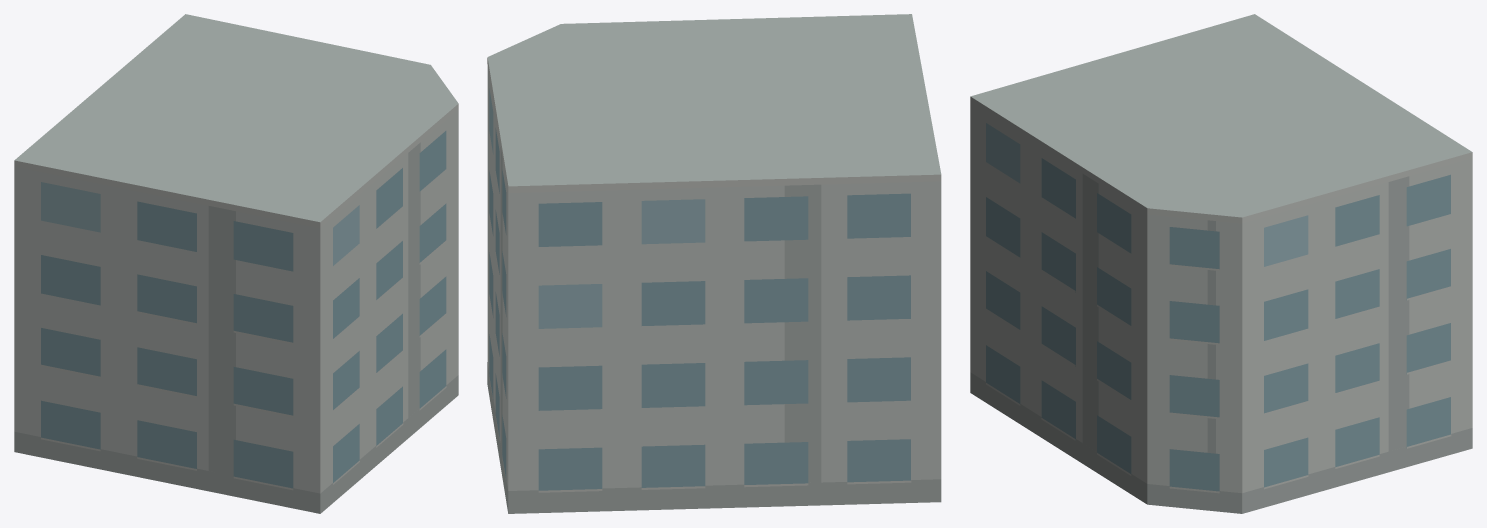
File: residential-6eeaefa0-df20-4aaa-89bf-e18b0c1b955a.glb
3 views of the same model, side by side, from view 1: azimuth 30°, elevation 25°; view 2: azimuth 150°, elevation 25°; view 3: azimuth 270°, elevation 25° (orthographic). The views are drawn at different scales.
Parts seen in each view (by area): view 1: residential-6eeaefa0-df20-4aaa-89bf-e18b0c1b955a.tmp; view 2: residential-6eeaefa0-df20-4aaa-89bf-e18b0c1b955a.tmp; view 3: residential-6eeaefa0-df20-4aaa-89bf-e18b0c1b955a.tmp.
Part boxes in pixels (x1=…): residential-6eeaefa0-df20-4aaa-89bf-e18b0c1b955a.tmp: x1=14, y1=14, x2=458, y2=513; residential-6eeaefa0-df20-4aaa-89bf-e18b0c1b955a.tmp: x1=487, y1=14, x2=941, y2=513; residential-6eeaefa0-df20-4aaa-89bf-e18b0c1b955a.tmp: x1=970, y1=14, x2=1472, y2=513.
Bounding box in the file's own units: 17.39 × 11.8 × 18.13.
